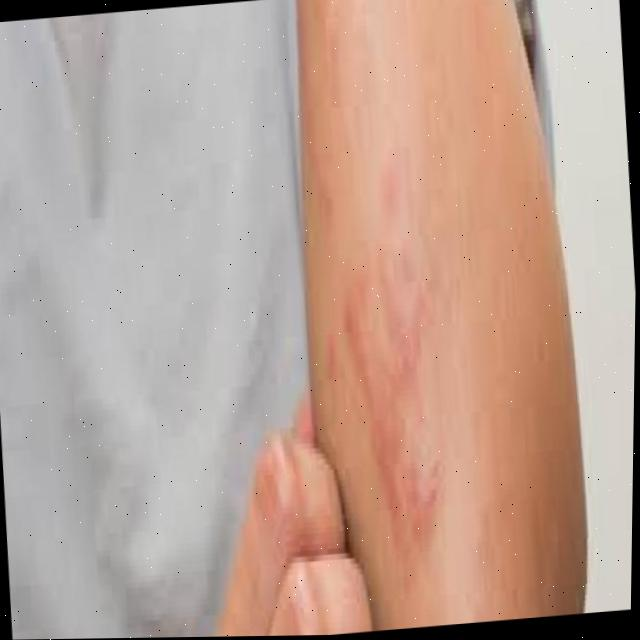Eczema: (314, 228, 472, 566)
